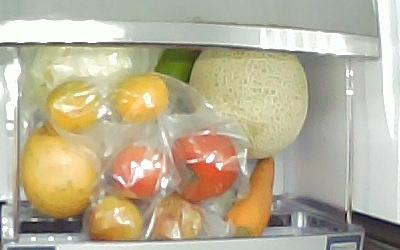cabbage: (30, 46, 135, 110)
carrot: (223, 156, 275, 237)
melon: (187, 46, 308, 159)
pear: (20, 122, 98, 217)
prune_vinyl: (106, 142, 169, 200), (86, 193, 143, 241), (148, 193, 206, 239)
tangerine_vinyl: (44, 79, 101, 132), (111, 72, 169, 124)
tomato_vinyl: (164, 126, 240, 203)
zucchini: (152, 47, 202, 84)
